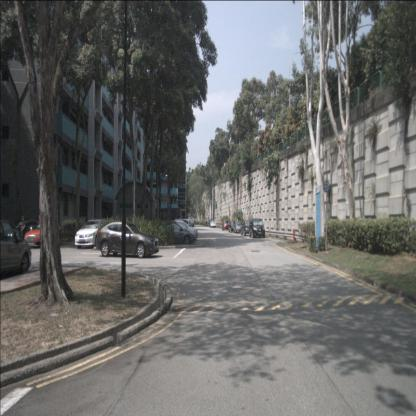human-pedestrian-adult: (20, 216, 27, 249)
vehicle-car: (96, 221, 159, 259), (0, 216, 32, 277), (74, 219, 108, 250), (158, 220, 196, 246), (25, 221, 61, 248), (162, 220, 198, 240), (13, 219, 40, 242), (249, 218, 265, 238), (241, 220, 253, 236), (176, 219, 190, 229), (234, 221, 244, 234), (228, 221, 238, 233), (222, 220, 230, 231), (210, 220, 216, 228)
